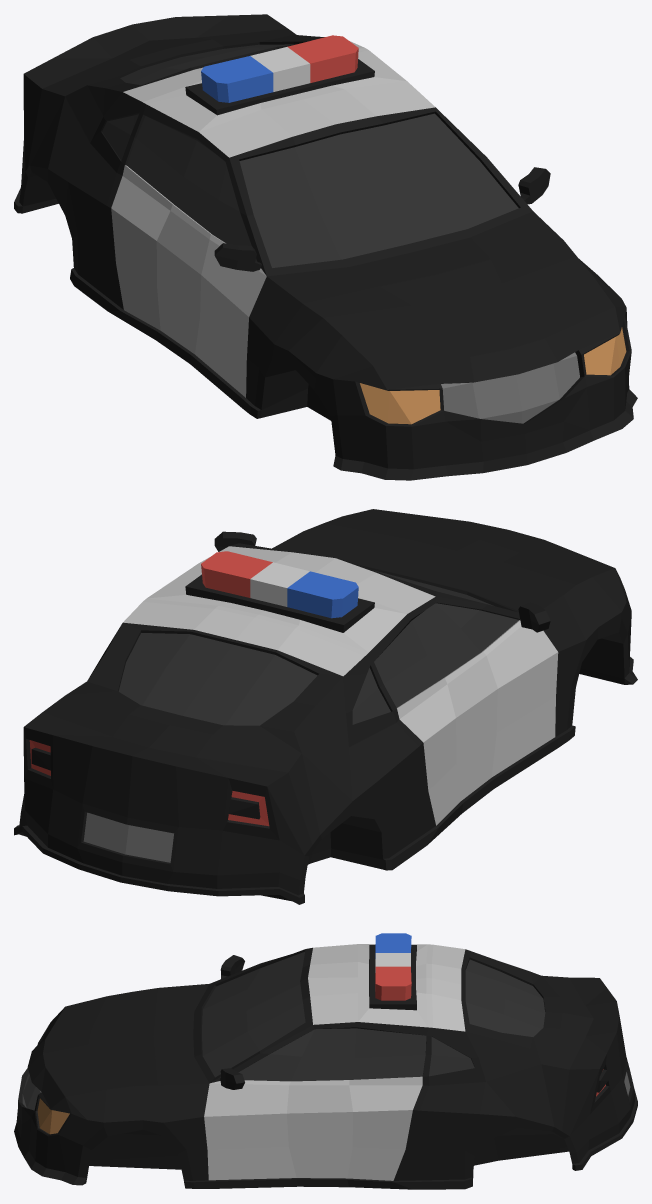
Rendered from cop_cube.001_lev3.glb.
3 renders of one model, top to bottom at view 1: azimuth 30°, elevation 25°; view 2: azimuth 150°, elevation 25°; view 3: azimuth 270°, elevation 25°, orthographic. The views are drawn at different scales.
Parts seen in each view (by area): view 1: cop_cube.001_lev3; view 2: cop_cube.001_lev3; view 3: cop_cube.001_lev3.
Boxes of the visible parts, x1,y1,x2,y2 form: cop_cube.001_lev3: (14, 14, 637, 480); cop_cube.001_lev3: (14, 509, 637, 904); cop_cube.001_lev3: (14, 933, 637, 1189).
Size of the model in its own units: 3.11 by 1.98 by 6.53.
